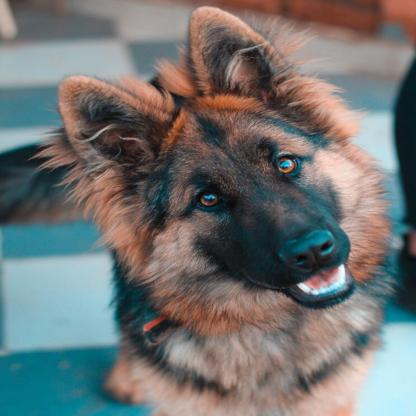german shepherd: (51, 11, 386, 416)
